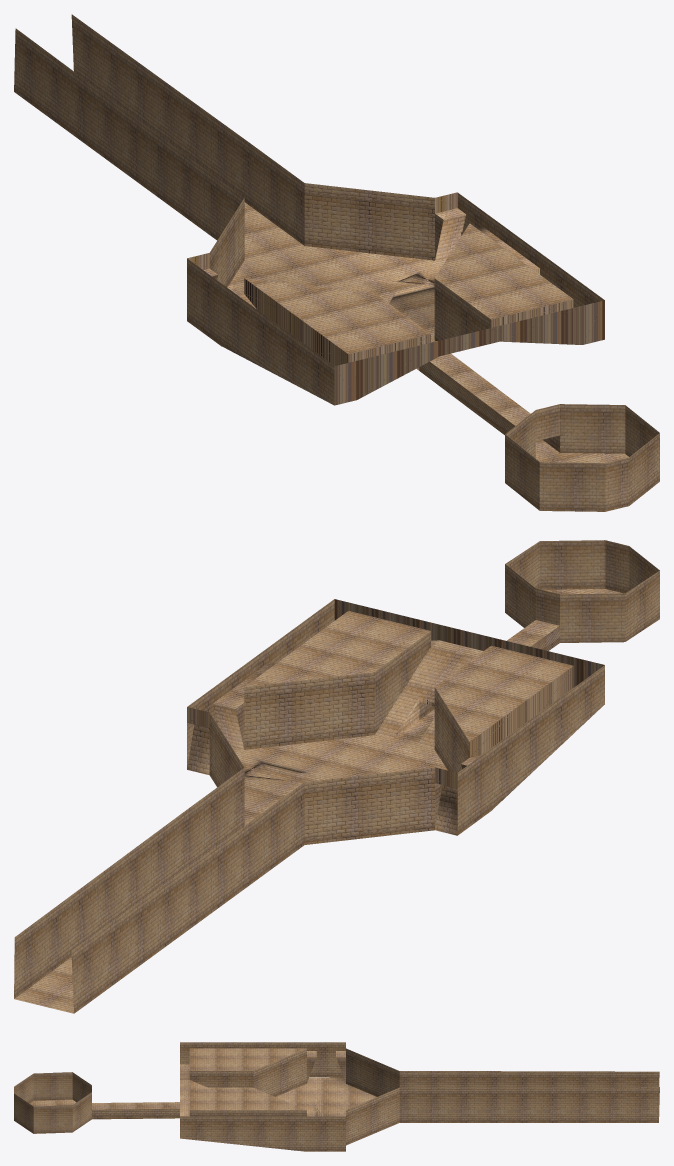
File: Dungeon.FBX
3 views of the same model, one above another, from view 1: azimuth 30°, elevation 25°; view 2: azimuth 150°, elevation 25°; view 3: azimuth 270°, elevation 25° (orthographic). The views are drawn at different scales.
Parts seen in each view (by area): view 1: Plane001; view 2: Plane001; view 3: Plane001.
Part boxes in pixels (x1=…): Plane001: x1=14, y1=14, x2=659, y2=511; Plane001: x1=14, y1=540, x2=659, y2=1013; Plane001: x1=14, y1=1042, x2=659, y2=1151.
Bounding box in the file's own units: 90 × 21.55 × 331.
Materials: 1 (1 with a texture image).
